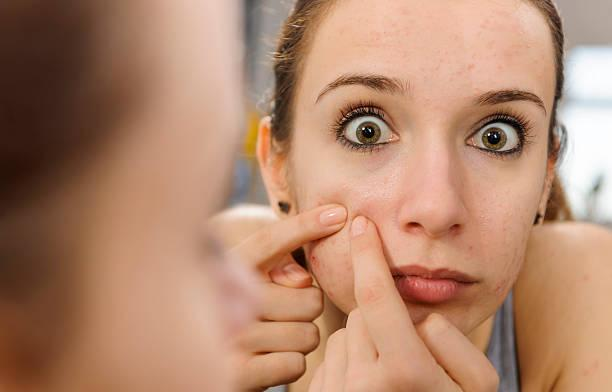Dry-Skin: (419, 173, 499, 292), (328, 156, 455, 213), (322, 34, 417, 85), (418, 37, 496, 91), (481, 178, 511, 294), (515, 45, 538, 99)
